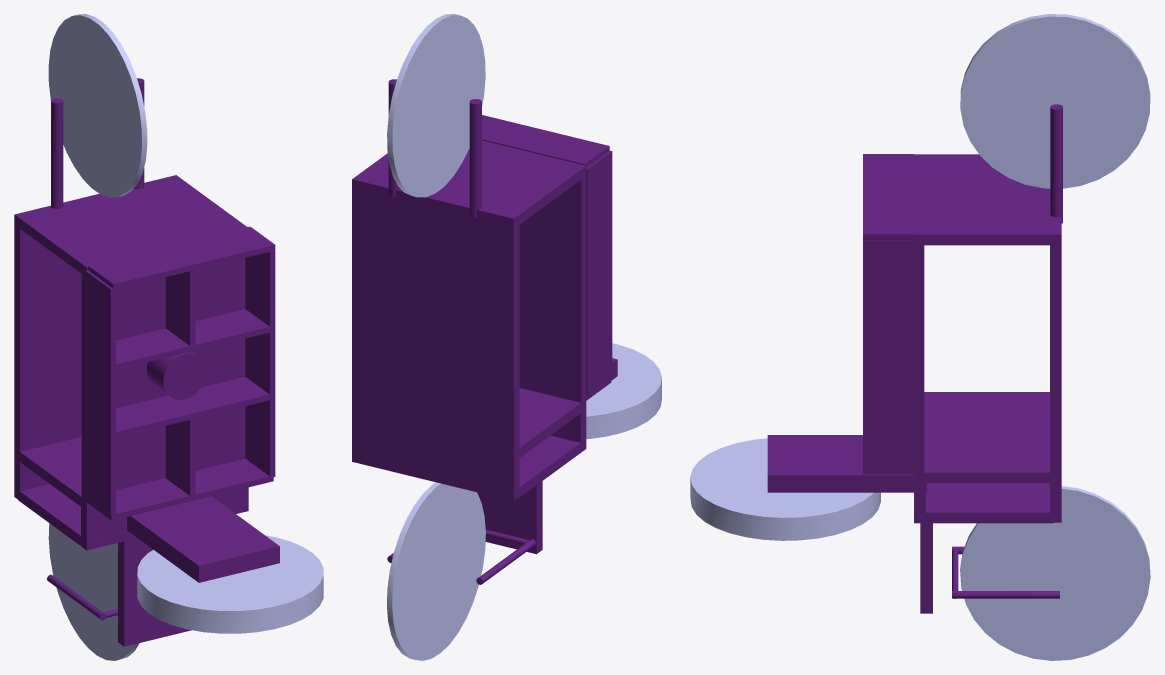
Rendered from lets_see.obj.
The picture shows the model from 3 angles, left to right: view 1: azimuth 30°, elevation 25°; view 2: azimuth 150°, elevation 25°; view 3: azimuth 270°, elevation 25°; orthographic projection.
Size of the model in its own units: 0.305 by 1.12 by 0.7244.
